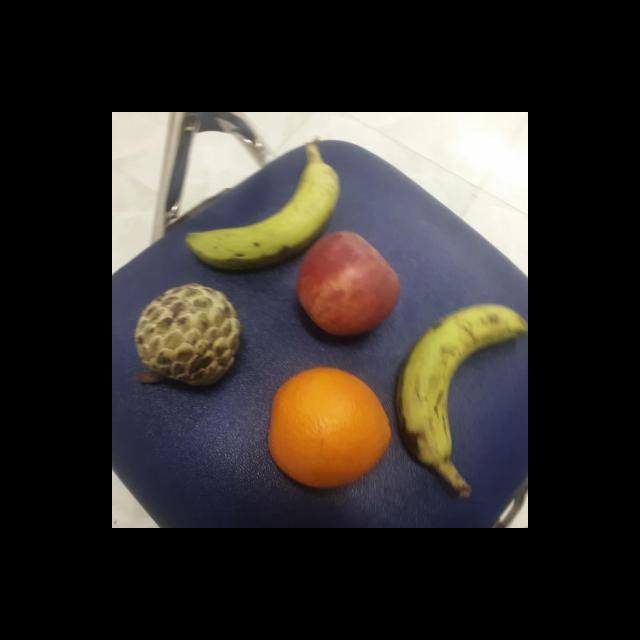Sakya fruit: (132, 282, 245, 388)
apple: (294, 228, 402, 336)
banana: (394, 300, 528, 470), (182, 158, 342, 274)
orange: (267, 363, 394, 490)
